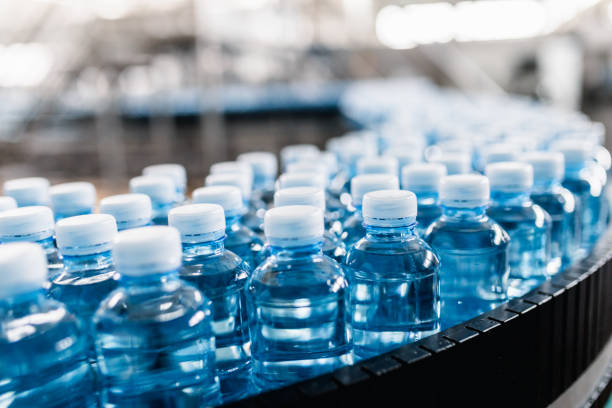bottle: (2, 137, 578, 404)
